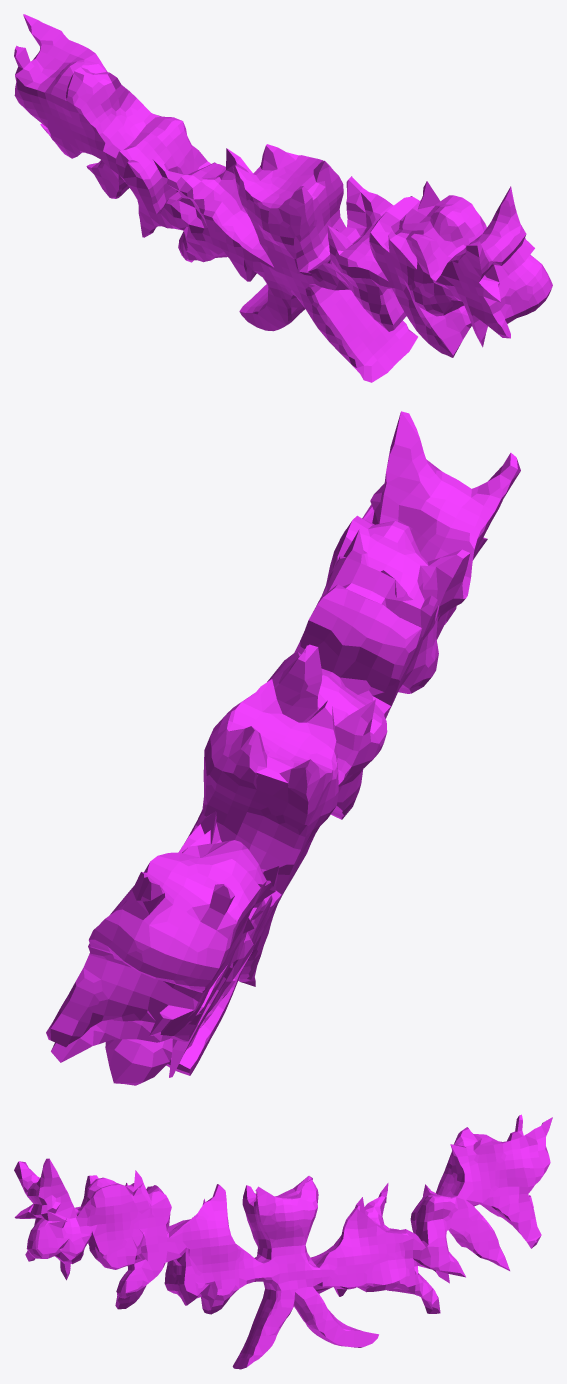
Rendered from angel.obj.
3 views of the same model, one above another, from view 1: azimuth 30°, elevation 25°; view 2: azimuth 150°, elevation 25°; view 3: azimuth 270°, elevation 25° (orthographic). The views are drawn at different scales.
Visible parts, largest first — view 1: Curve; view 2: Curve; view 3: Curve.
Part boxes in pixels (box(x1,y1,x2,y2)): Curve: box(14, 14, 552, 382); Curve: box(46, 411, 520, 1085); Curve: box(14, 1114, 552, 1369).
Bounding box in the file's own units: 8.37 × 9.68 × 21.89.
